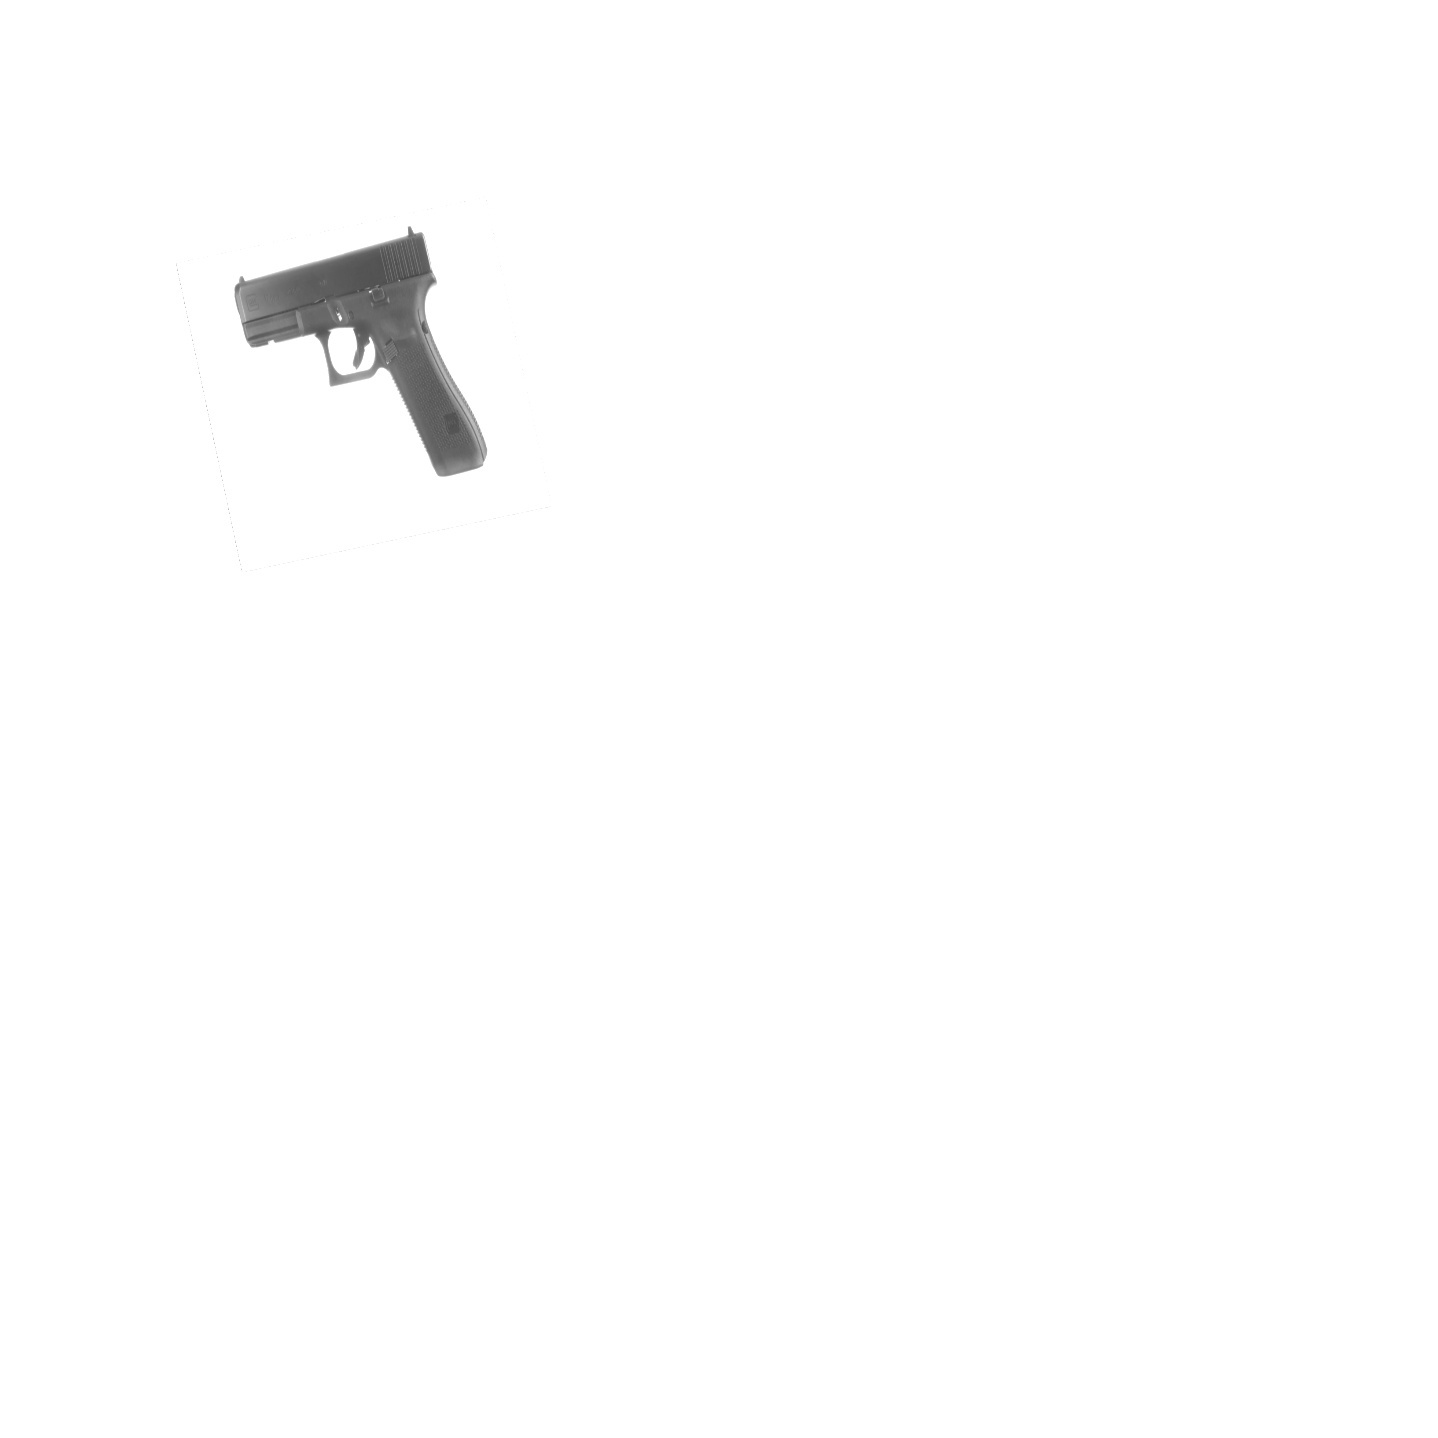gun: (223, 219, 500, 489)
